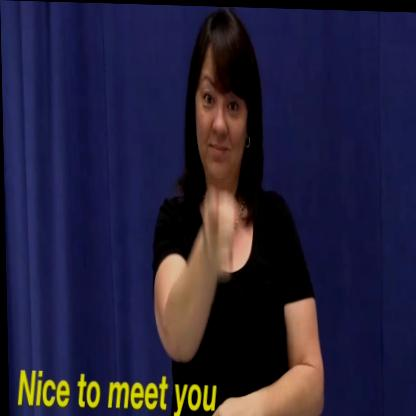NiceToMeetYou: (169, 146, 262, 292)
